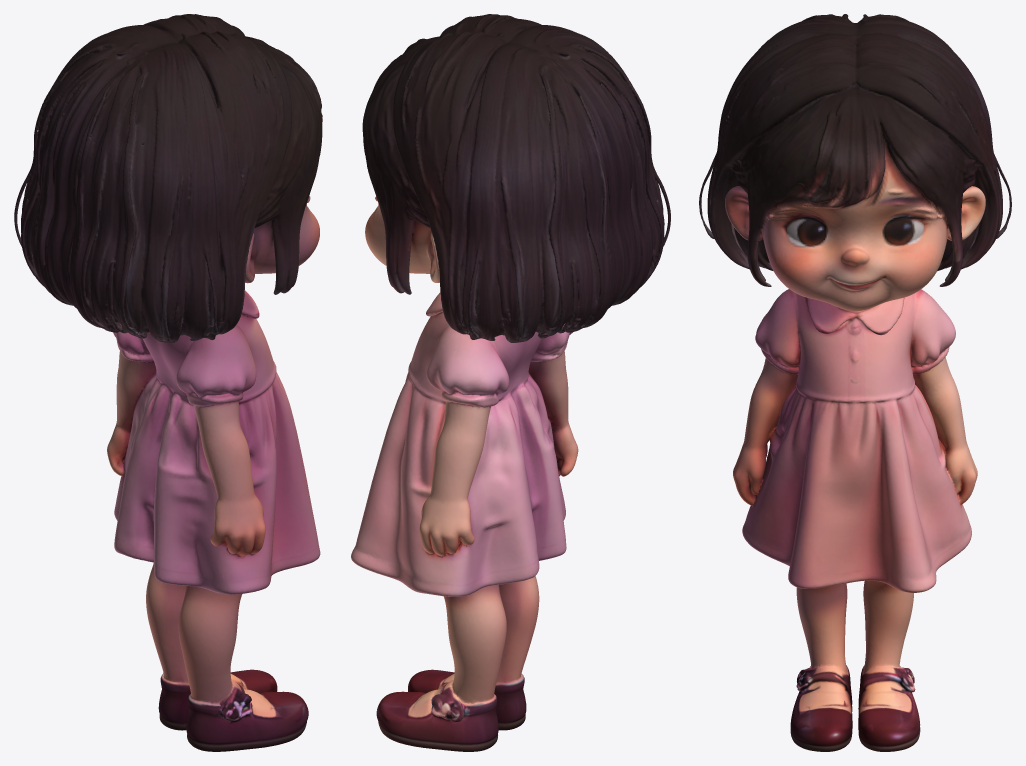
File: girl.glb
The picture shows the model from 3 angles, left to right: view 1: azimuth 30°, elevation 25°; view 2: azimuth 150°, elevation 25°; view 3: azimuth 270°, elevation 25°; orthographic projection. The views are drawn at different scales.
Parts seen in each view (by area): view 1: tripo_node_7640eb36-11ca-44a2-9696-e95e58fc4ff9; view 2: tripo_node_7640eb36-11ca-44a2-9696-e95e58fc4ff9; view 3: tripo_node_7640eb36-11ca-44a2-9696-e95e58fc4ff9.
Part boxes in pixels (x1,y1,x2,y2): tripo_node_7640eb36-11ca-44a2-9696-e95e58fc4ff9: (14, 14, 322, 751); tripo_node_7640eb36-11ca-44a2-9696-e95e58fc4ff9: (351, 14, 670, 751); tripo_node_7640eb36-11ca-44a2-9696-e95e58fc4ff9: (699, 14, 1011, 751).
Size of the model in its own units: 0.3821 by 1 by 0.4183.
Materials: 1 (1 with a texture image).
